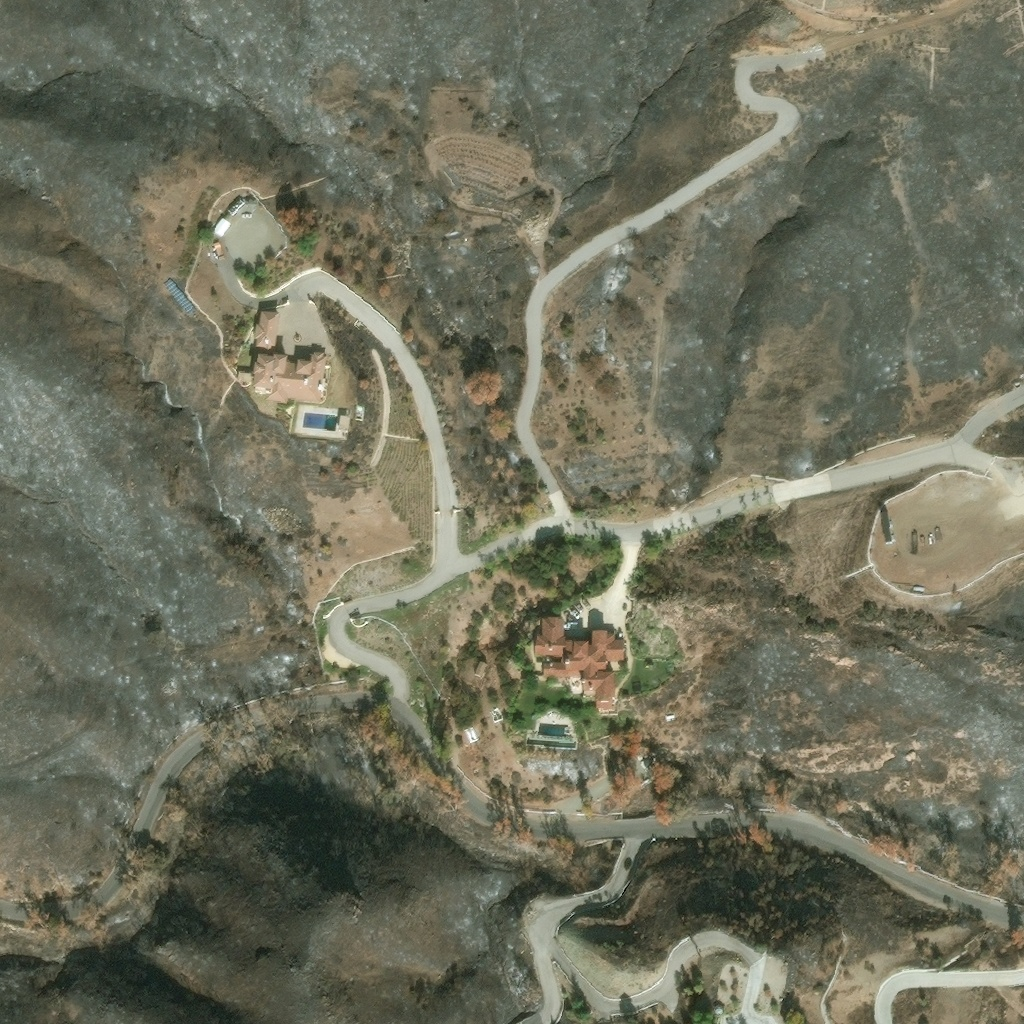0 no-damage: (534, 618, 626, 711), (253, 352, 327, 407), (164, 280, 194, 317), (255, 312, 280, 352), (881, 510, 893, 545), (339, 417, 350, 433), (238, 374, 251, 384), (571, 616, 577, 621)
3 destroyed: (679, 489, 689, 501)
